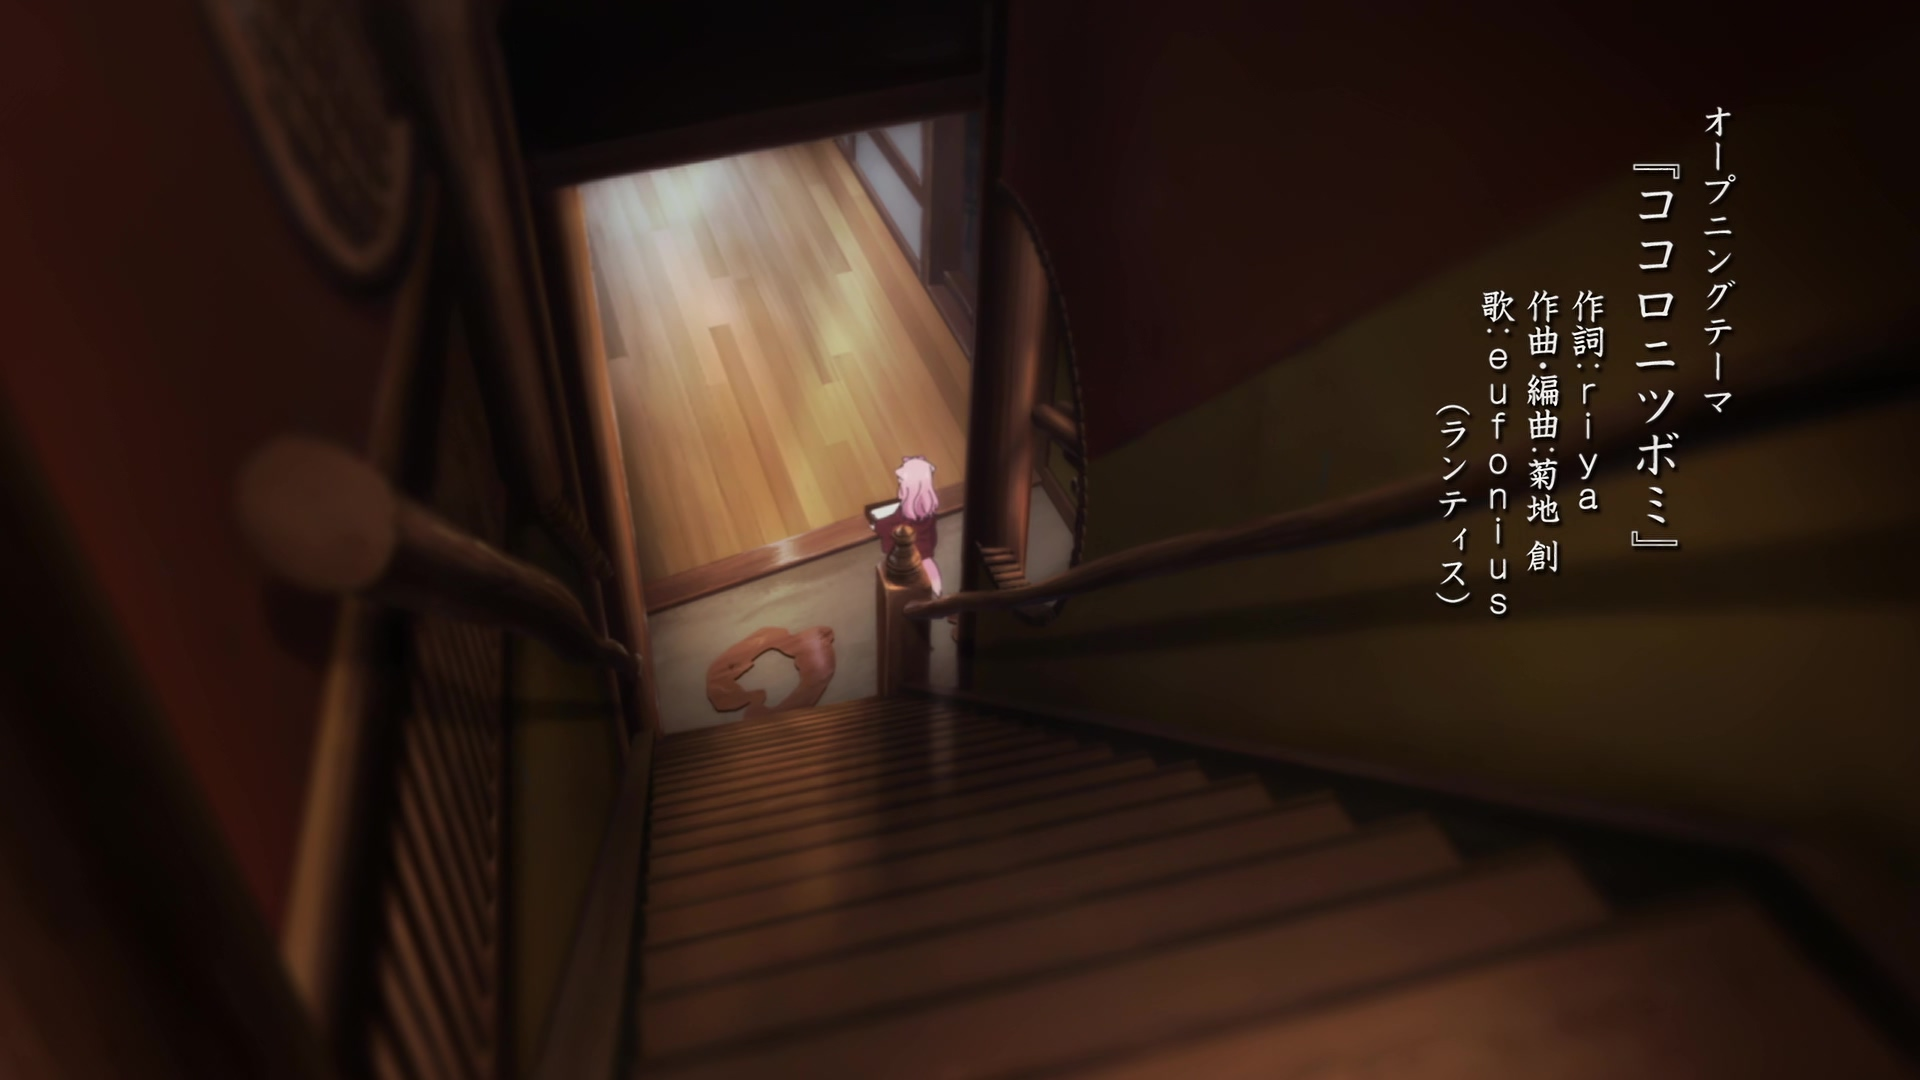莲: (862, 454, 944, 597)
